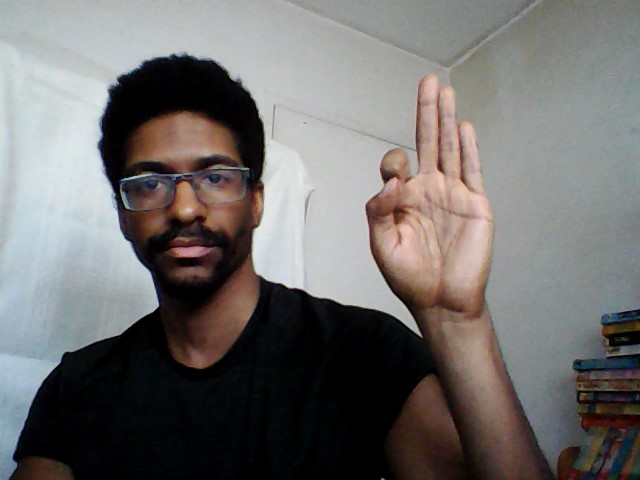f: (361, 71, 499, 303)
